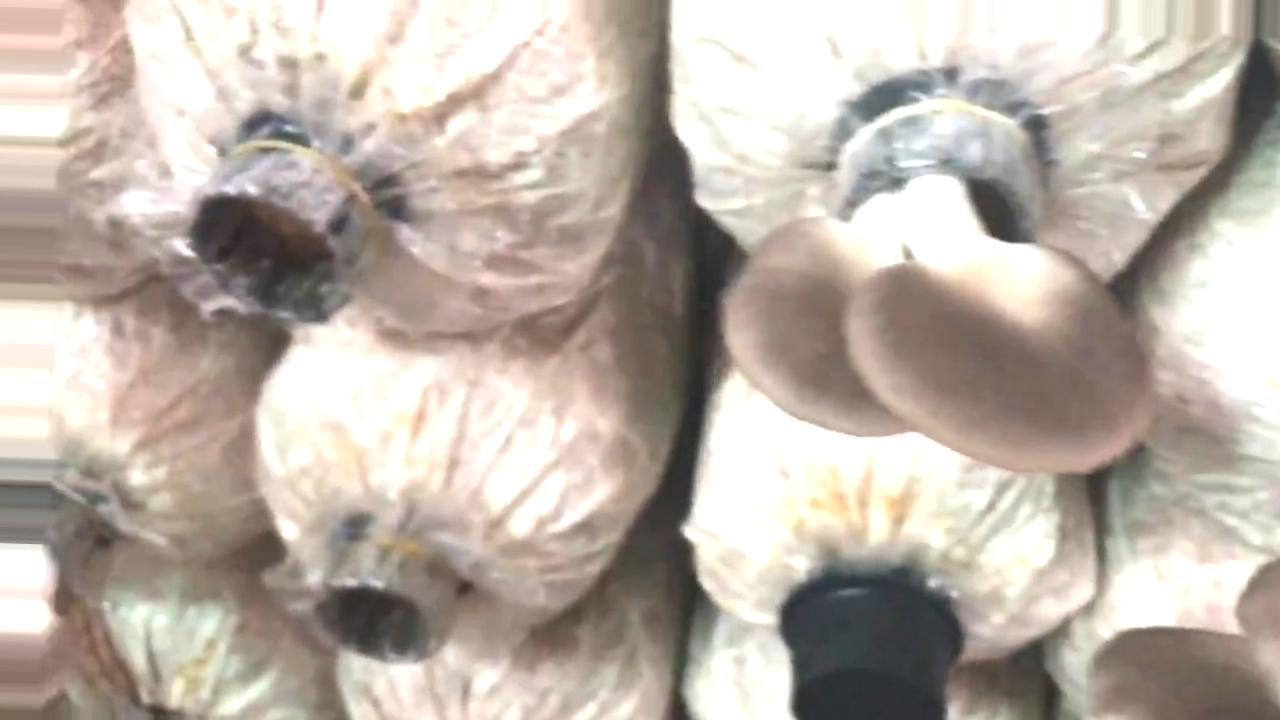nam: (735, 96, 1138, 467)
